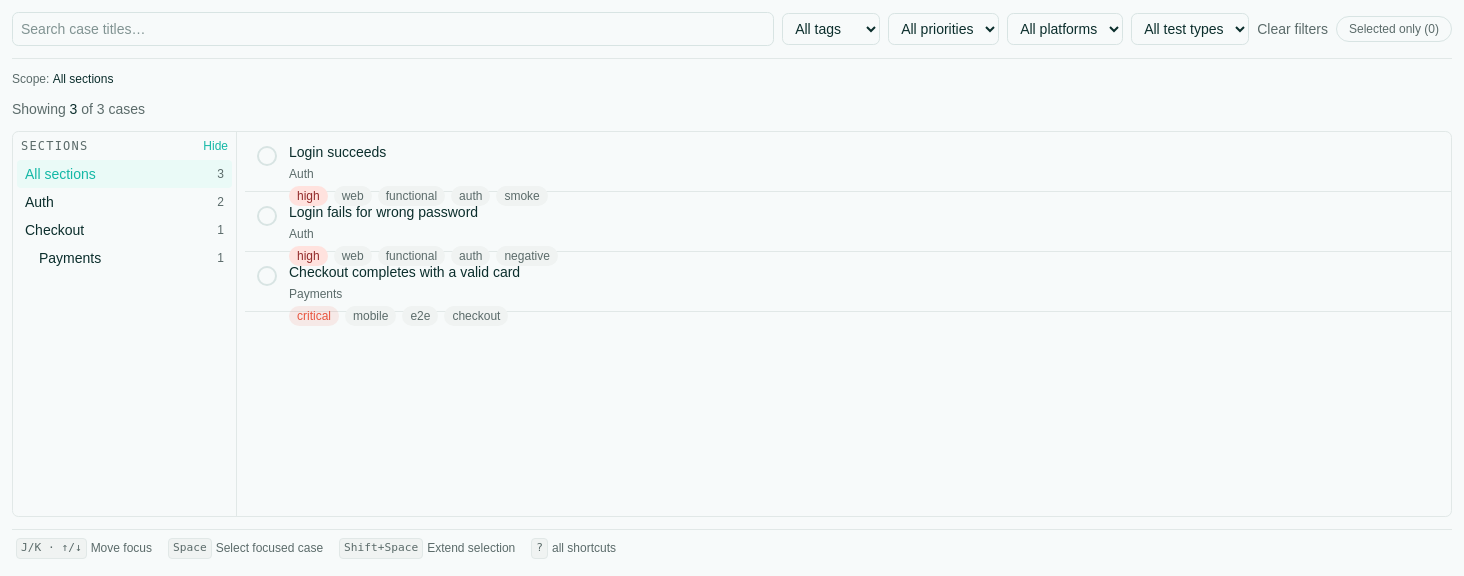
Test: CasePicker › scoping to a section narrows the list to that section and its descendants
The image size is (1464, 576).
Click the list item "Checkout 1". click: (55, 230)
box: [25, 222, 224, 238]
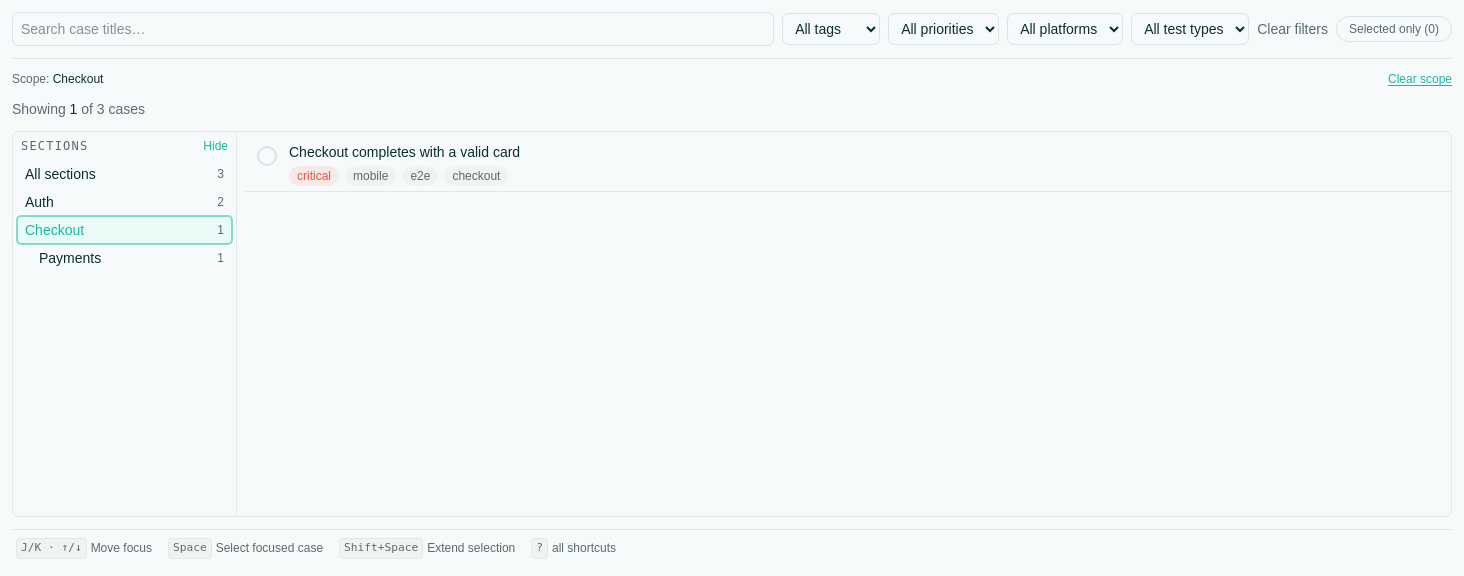
Expected: the text "Checkout completes with a valid card" is shown, [289, 142, 520, 162]
Expected: the checkbox "Login succeeds" is gone
